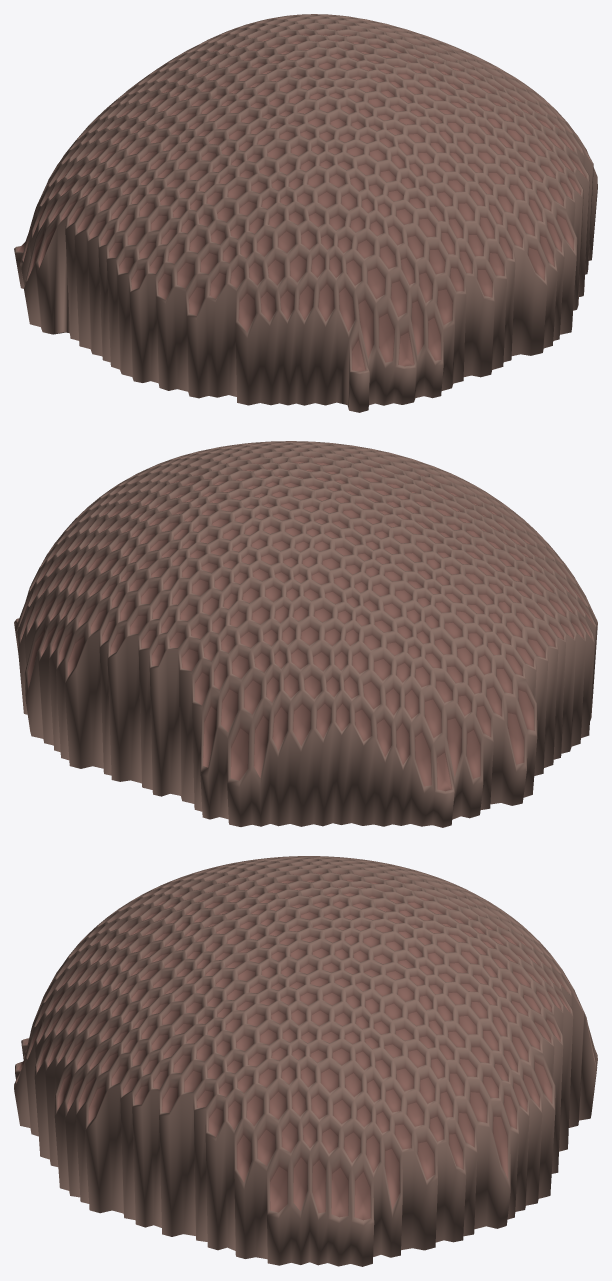
Rendered from massive-tabulate-coral.glb.
The picture shows the model from 3 angles, top to bottom: view 1: azimuth 30°, elevation 25°; view 2: azimuth 150°, elevation 25°; view 3: azimuth 270°, elevation 25°; orthographic projection. The views are drawn at different scales.
Parts seen in each view (by area): view 1: massive-tabulate-coral; view 2: massive-tabulate-coral; view 3: massive-tabulate-coral.
Boxes of the visible parts, bbox=[...] form: massive-tabulate-coral: bbox=[14, 14, 597, 412]; massive-tabulate-coral: bbox=[14, 441, 597, 827]; massive-tabulate-coral: bbox=[14, 856, 597, 1266].
Size of the model in its own units: 0.2077 by 0.0925 by 0.1911.
